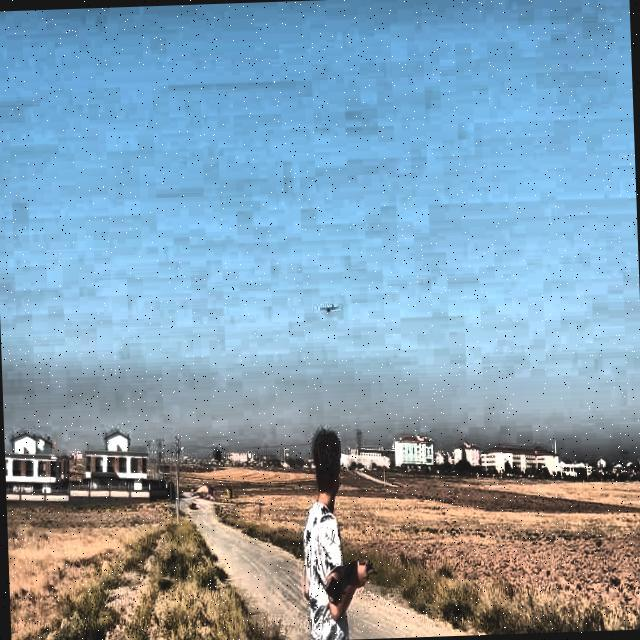iha: (307, 299, 336, 324)
